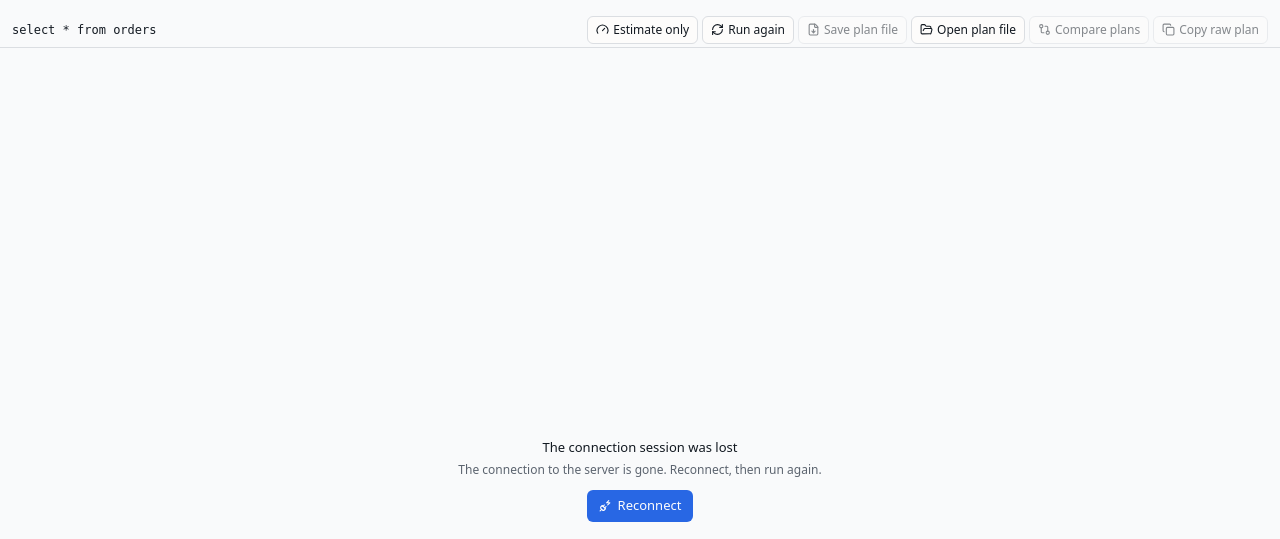
Test: reconnecting a lost plan session › never repeats an ANALYZE on its own
This screenshot has width=1280, height=539.
Click the button "Reconnect" at (640,506), box 587,490 -> 694,522
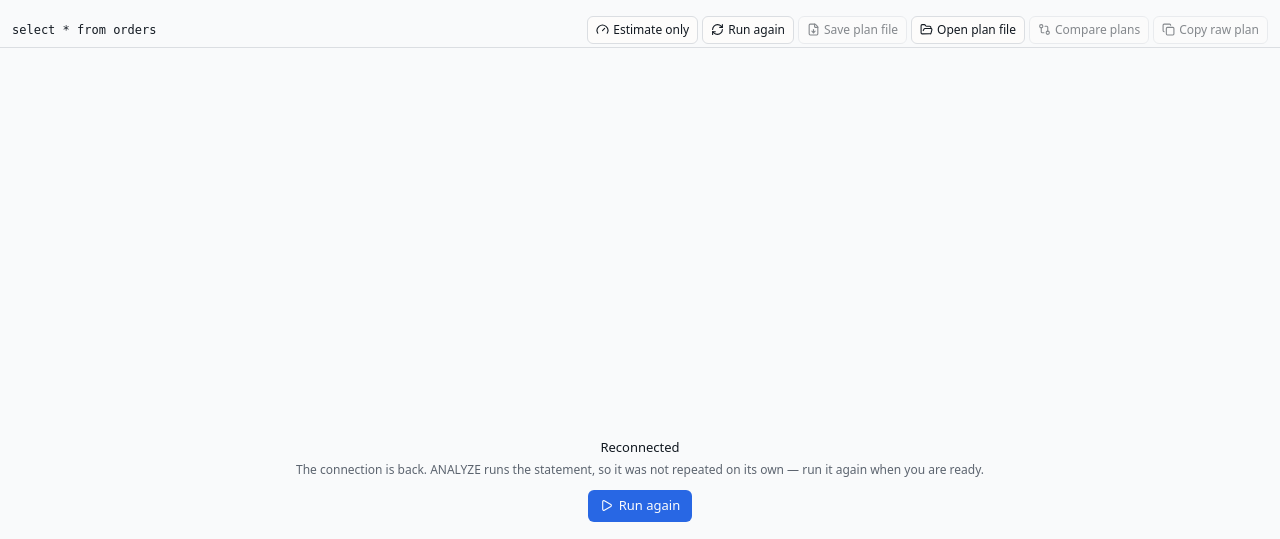
expect the button "Run again" in the row of "select * from orders" is shown: met, box 702,16 -> 794,44
expect the text "Reconnected" is shown: met, box 600,438 -> 680,456
